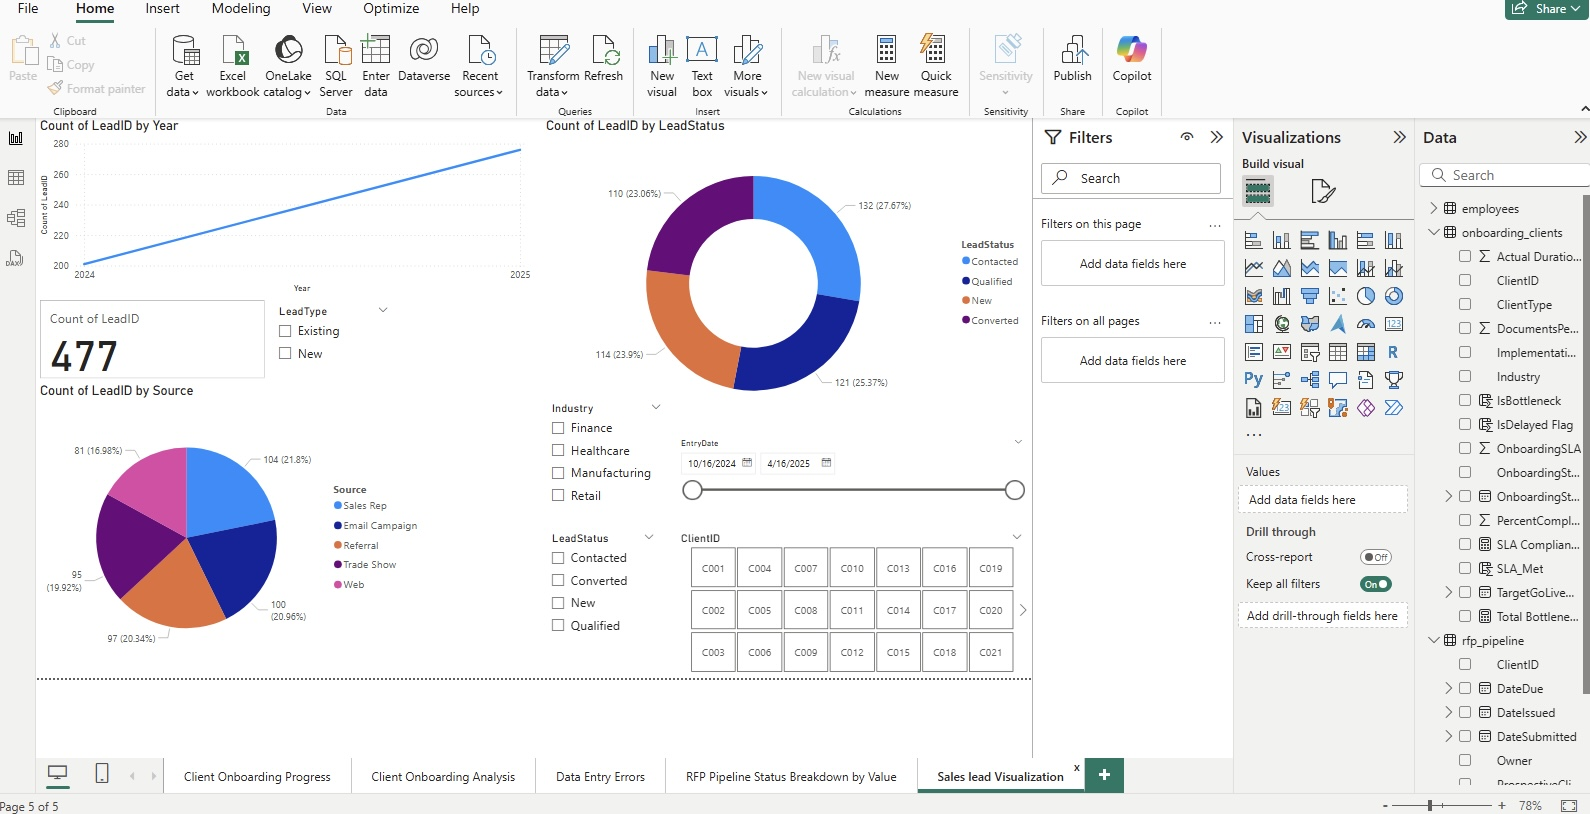

Layout of this report page (visuals, bound fields, positions):
{"tool":"powerbi","page":{"name":"Sales lead Visualization","canvas":[1280,720],"ordinal":4},"visuals":[{"type":"lineChart","fields":{"Category":["sales_leads_clean.EntryDate.Variation.Date Hierarchy.Year","sales_leads_clean.EntryDate.Variation.Date Hierarchy.Quarter","sales_leads_clean.EntryDate.Variation.Date Hierarchy.Month","sales_leads_clean.EntryDate.Variation.Date Hierarchy.Day"],"Y":["CountNonNull(sales_leads_clean.LeadID)"]},"box":[0,0,640,228.8],"z":0},{"type":"pieChart","fields":{"Y":["CountNonNull(sales_leads_clean.LeadID)"],"Category":["sales_leads_clean.Source"]},"box":[0,340.6,505.1,379.1],"z":1000},{"type":"donutChart","fields":{"Y":["CountNonNull(sales_leads_clean.LeadID)"],"Category":["sales_leads_clean.LeadStatus"]},"box":[650.3,0,629.7,406.1],"z":2000},{"type":"slicer","fields":{"Values":["sales_leads_clean.LeadType"]},"box":[299.4,235.2,165.8,99],"z":3000},{"type":"slicer","fields":{"Values":["onboarding_clients.Industry"]},"box":[650.3,359.8,165.8,152.9],"z":4000},{"type":"slicer","fields":{"Values":["sales_leads_clean.EntryDate"]},"box":[816.1,406.1,463.9,106.7],"z":5000},{"type":"slicer","fields":{"Values":["sales_leads_clean.ClientID"]},"box":[816.1,526.9,463.9,191.5],"z":6000},{"type":"cardVisual","fields":{"Data":["CountNonNull(sales_leads_clean.LeadID)"]},"box":[0,228.8,299.4,111.8],"z":7000},{"type":"slicer","fields":{"Values":["sales_leads_clean.LeadStatus"]},"box":[650.3,526.9,156.8,155.5],"z":8000}]}

Visuals, with their boxes on the page's 1280x720 design canvas (x1, y1, x2, y2). These are canvas units, not pixel positions in the 1590x814 screenshot, which may show the page scaled, cropped or inside an application window:
lineChart - sales_leads_clean.EntryDate.Variation.Date Hierarchy.Year x sales_leads_clean.EntryDate.Variation.Date Hierarchy.Quarter: <region>0, 0, 640, 229</region>
pieChart - CountNonNull(sales_leads_clean.LeadID) x sales_leads_clean.Source: <region>0, 341, 505, 720</region>
donutChart - CountNonNull(sales_leads_clean.LeadID) x sales_leads_clean.LeadStatus: <region>650, 0, 1280, 406</region>
slicer - sales_leads_clean.LeadType: <region>299, 235, 465, 334</region>
slicer - onboarding_clients.Industry: <region>650, 360, 816, 513</region>
slicer - sales_leads_clean.EntryDate: <region>816, 406, 1280, 513</region>
slicer - sales_leads_clean.ClientID: <region>816, 527, 1280, 718</region>
cardVisual - CountNonNull(sales_leads_clean.LeadID): <region>0, 229, 299, 341</region>
slicer - sales_leads_clean.LeadStatus: <region>650, 527, 807, 682</region>
